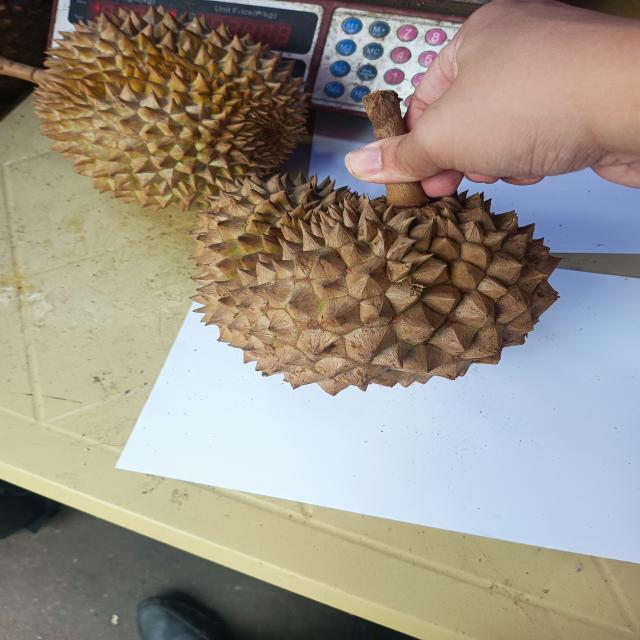mature: (185, 168, 563, 393), (32, 5, 307, 210)
